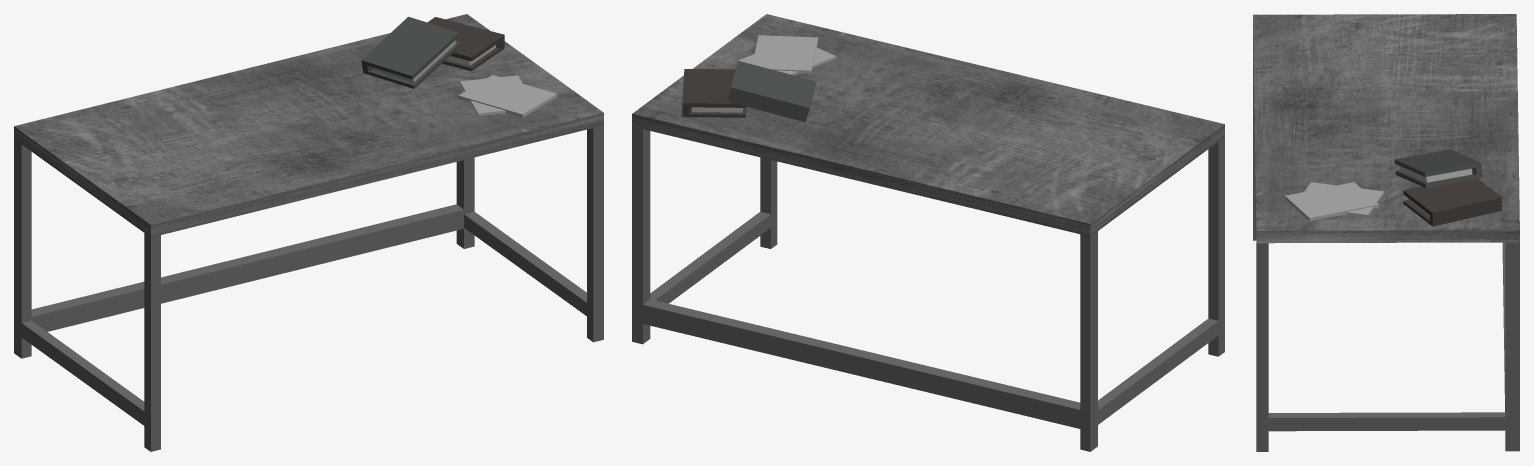
The model's file is Workbench.fbx.
The picture shows the model from 3 angles, left to right: view 1: azimuth 30°, elevation 25°; view 2: azimuth 150°, elevation 25°; view 3: azimuth 270°, elevation 25°; orthographic projection. The views are drawn at different scales.
Parts seen in each view (by area): view 1: Desk:pCube1, GreenBook, Papers, BrownBook; view 2: Desk:pCube1, GreenBook, BrownBook, Papers; view 3: Desk:pCube1, BrownBook, Papers, GreenBook.
Part boxes in pixels (left/top/right/bottom): Desk:pCube1: left=14, top=14, right=603, bottom=451; GreenBook: left=361, top=16, right=461, bottom=88; Papers: left=458, top=75, right=557, bottom=117; BrownBook: left=427, top=17, right=504, bottom=71; Desk:pCube1: left=632, top=14, right=1224, bottom=451; GreenBook: left=727, top=61, right=816, bottom=122; BrownBook: left=682, top=69, right=746, bottom=117; Papers: left=737, top=35, right=836, bottom=75; Desk:pCube1: left=1253, top=14, right=1519, bottom=451; BrownBook: left=1403, top=179, right=1501, bottom=226; Papers: left=1285, top=182, right=1384, bottom=221; GreenBook: left=1394, top=149, right=1482, bottom=188.
Size of the model in its own units: 8.34 by 4.51 by 4.34.
